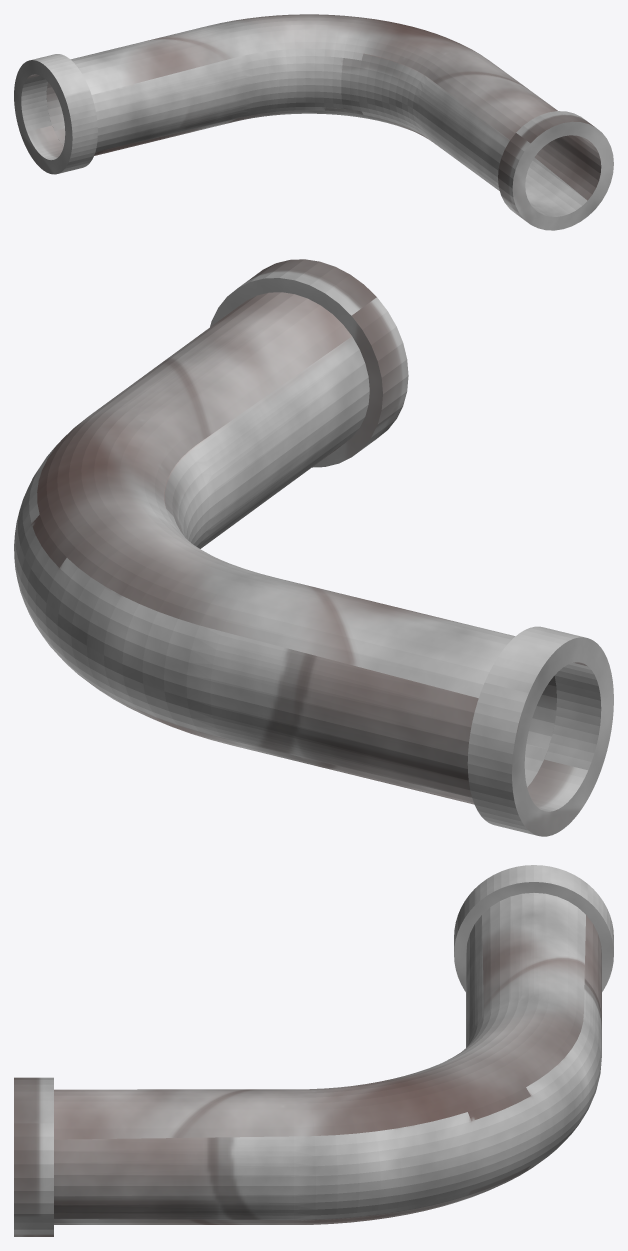
File: Pipe curve 3.glb
3 views of the same model, one above another, from view 1: azimuth 30°, elevation 25°; view 2: azimuth 150°, elevation 25°; view 3: azimuth 270°, elevation 25° (orthographic). The views are drawn at different scales.
Visible parts, largest first — view 1: Pipe thin short turn WE; view 2: Pipe thin short turn WE; view 3: Pipe thin short turn WE.
Part boxes in pixels (<box>): Pipe thin short turn WE: <box>14,14,613,230</box>; Pipe thin short turn WE: <box>14,259,613,836</box>; Pipe thin short turn WE: <box>14,865,613,1236</box>.
Bounding box in the file's own units: 10.67 × 2.85 × 10.67.
1 material, 1 textured.
